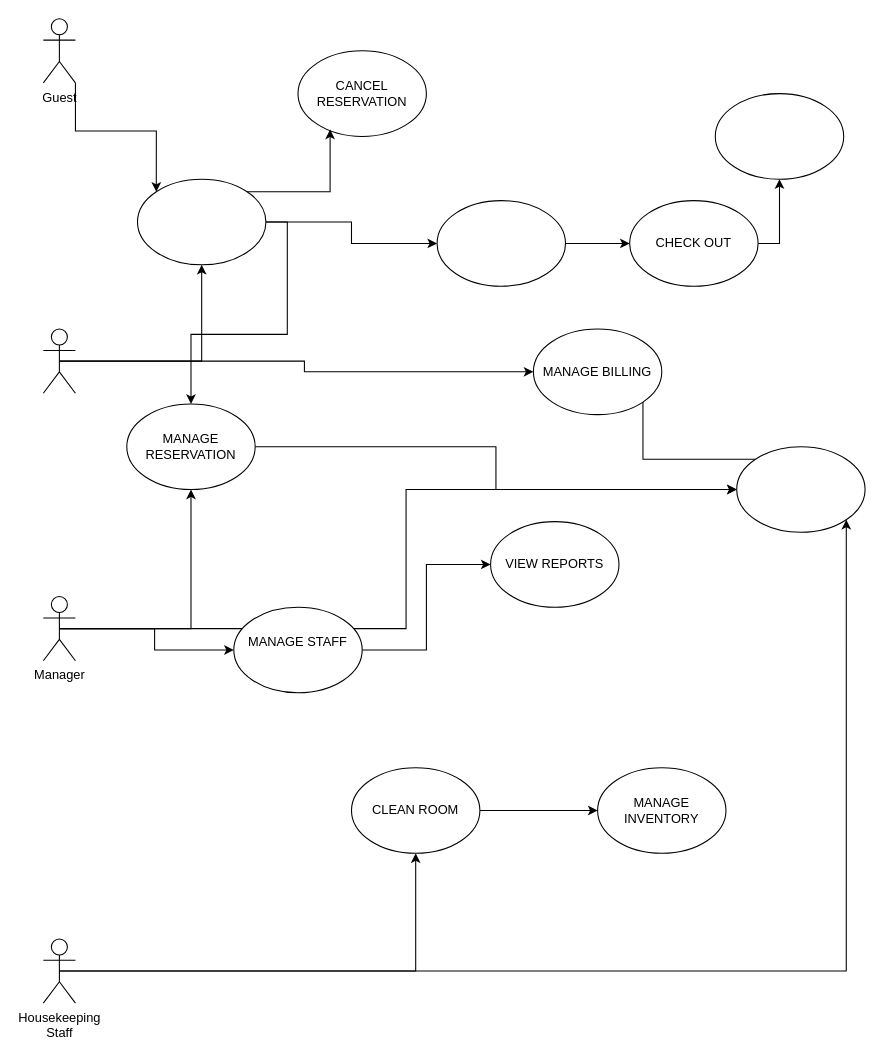
The diagram is 884 pixels wide and 1060 high, and some of its shapes have lost their labels. The shapes that lost their labels are listed below. From the top down, each one's box as (x1, y1, x2, y2) in pixels, then its label:
(714, 93, 844, 179): REPORT ISSUE
(136, 178, 266, 265): MAKE RESERVATION
(436, 200, 565, 286): CHECK-IN
(42, 328, 75, 393): Receptionist
(736, 446, 865, 532): MANAGE ROOM
